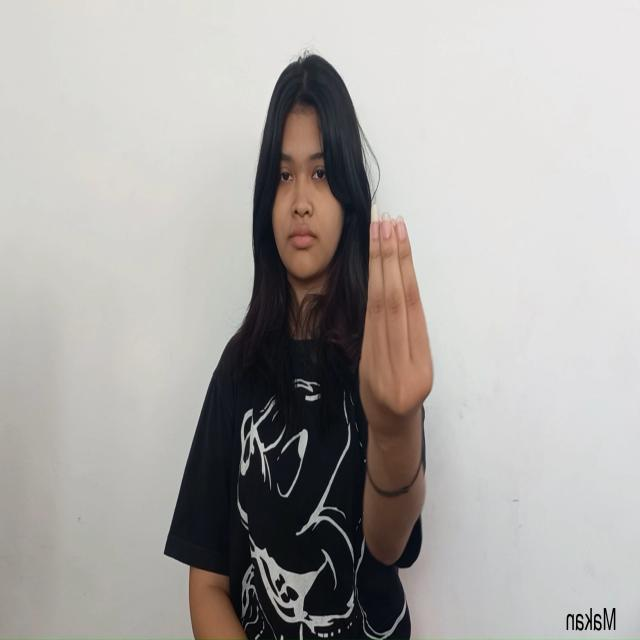Makan -BISINDO-: (358, 206, 434, 459)
